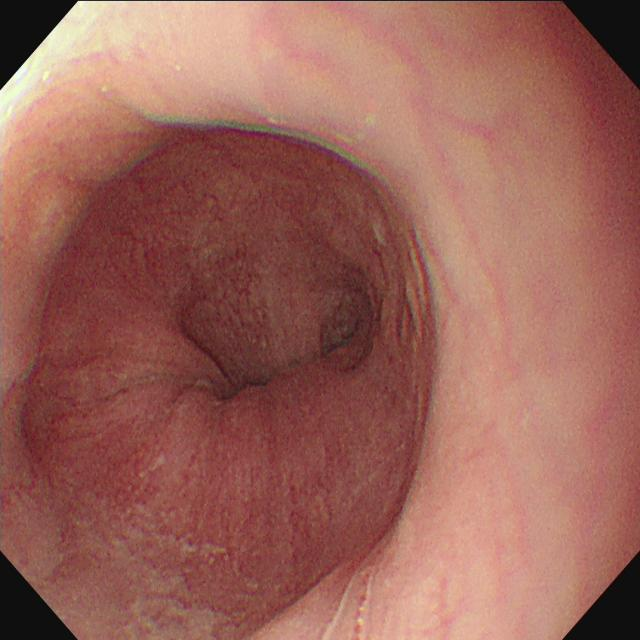I: (163, 274, 385, 416)
